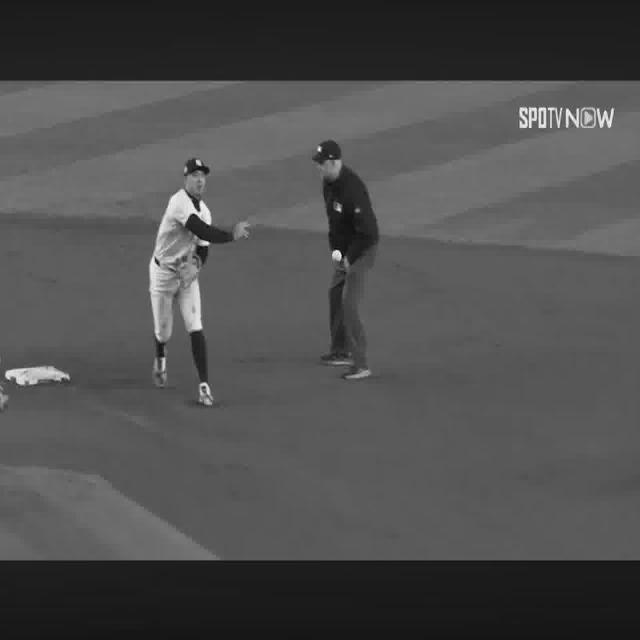base: (5, 365, 70, 385)
baseball: (331, 250, 342, 261)
baseball_glove: (176, 255, 202, 288)
shoe: (152, 357, 168, 388), (344, 362, 371, 380), (320, 350, 351, 365), (196, 382, 214, 407)
